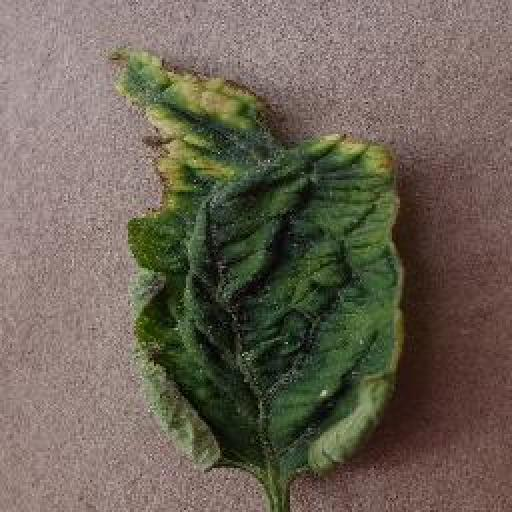Yellow Leaf Curl Virus: (106, 43, 410, 476)
